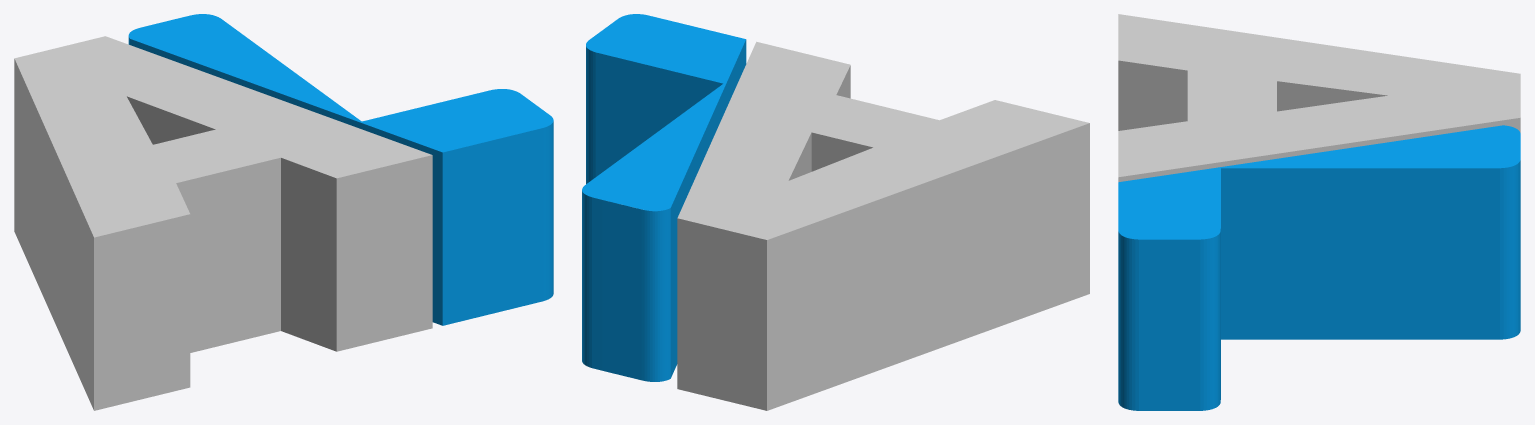
File: anilist.glb
3 views of the same model, side by side, from view 1: azimuth 30°, elevation 25°; view 2: azimuth 150°, elevation 25°; view 3: azimuth 270°, elevation 25° (orthographic).
Parts seen in each view (by area): view 1: Curve; view 2: Curve; view 3: Curve.
Part boxes in pixels (x1,y1,x2,y2): Curve: [14, 14, 553, 410]; Curve: [582, 14, 1089, 410]; Curve: [1118, 14, 1520, 410].
Bounding box in the file's own units: 0.0141 × 0.005 × 0.0106.
